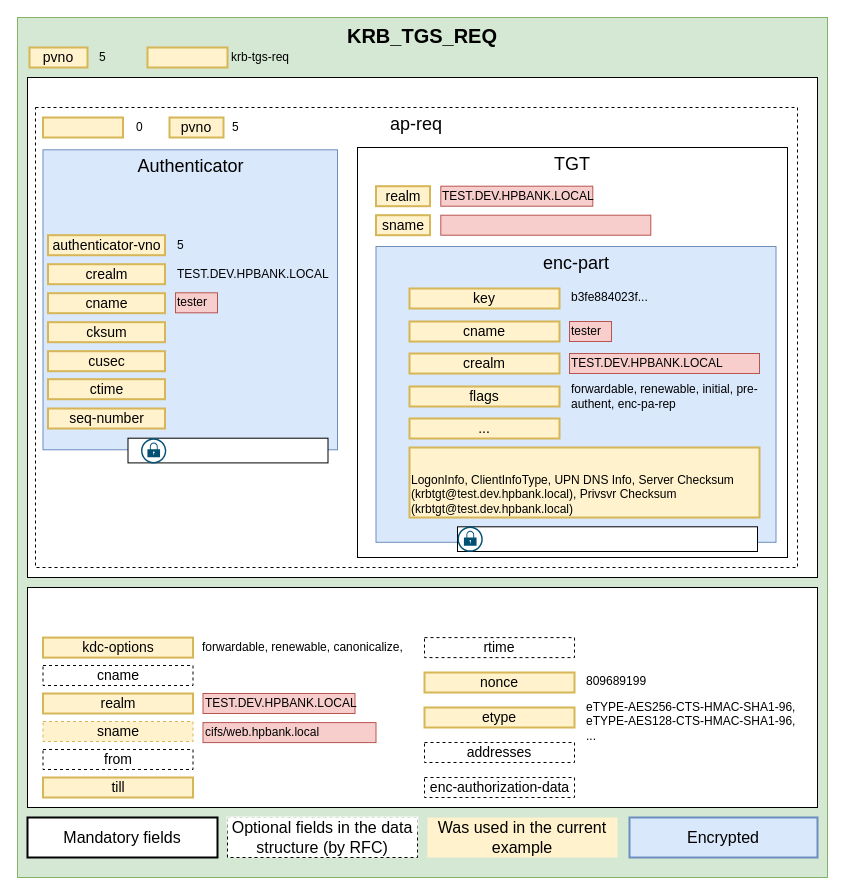
Image size: 845x895. Some labels were removed from this diagram. The shapes that lost their labels are listed below. From the top down, each one's box as (x1, y1, x2, y2) in pixels, then its label:
(146, 46, 228, 68): msg-type
(42, 116, 124, 138): ap-options
(440, 214, 651, 235): krbtgt@test.dev.hpbank.local
(26, 76, 818, 578): PADATA
(127, 437, 328, 463): tester logon session key
(408, 446, 760, 518): PAC (tester)
(456, 526, 758, 552): krbtgt@test.dev.hpbank.local kerberos key
(26, 586, 818, 808): KDC-REQ-BODY
